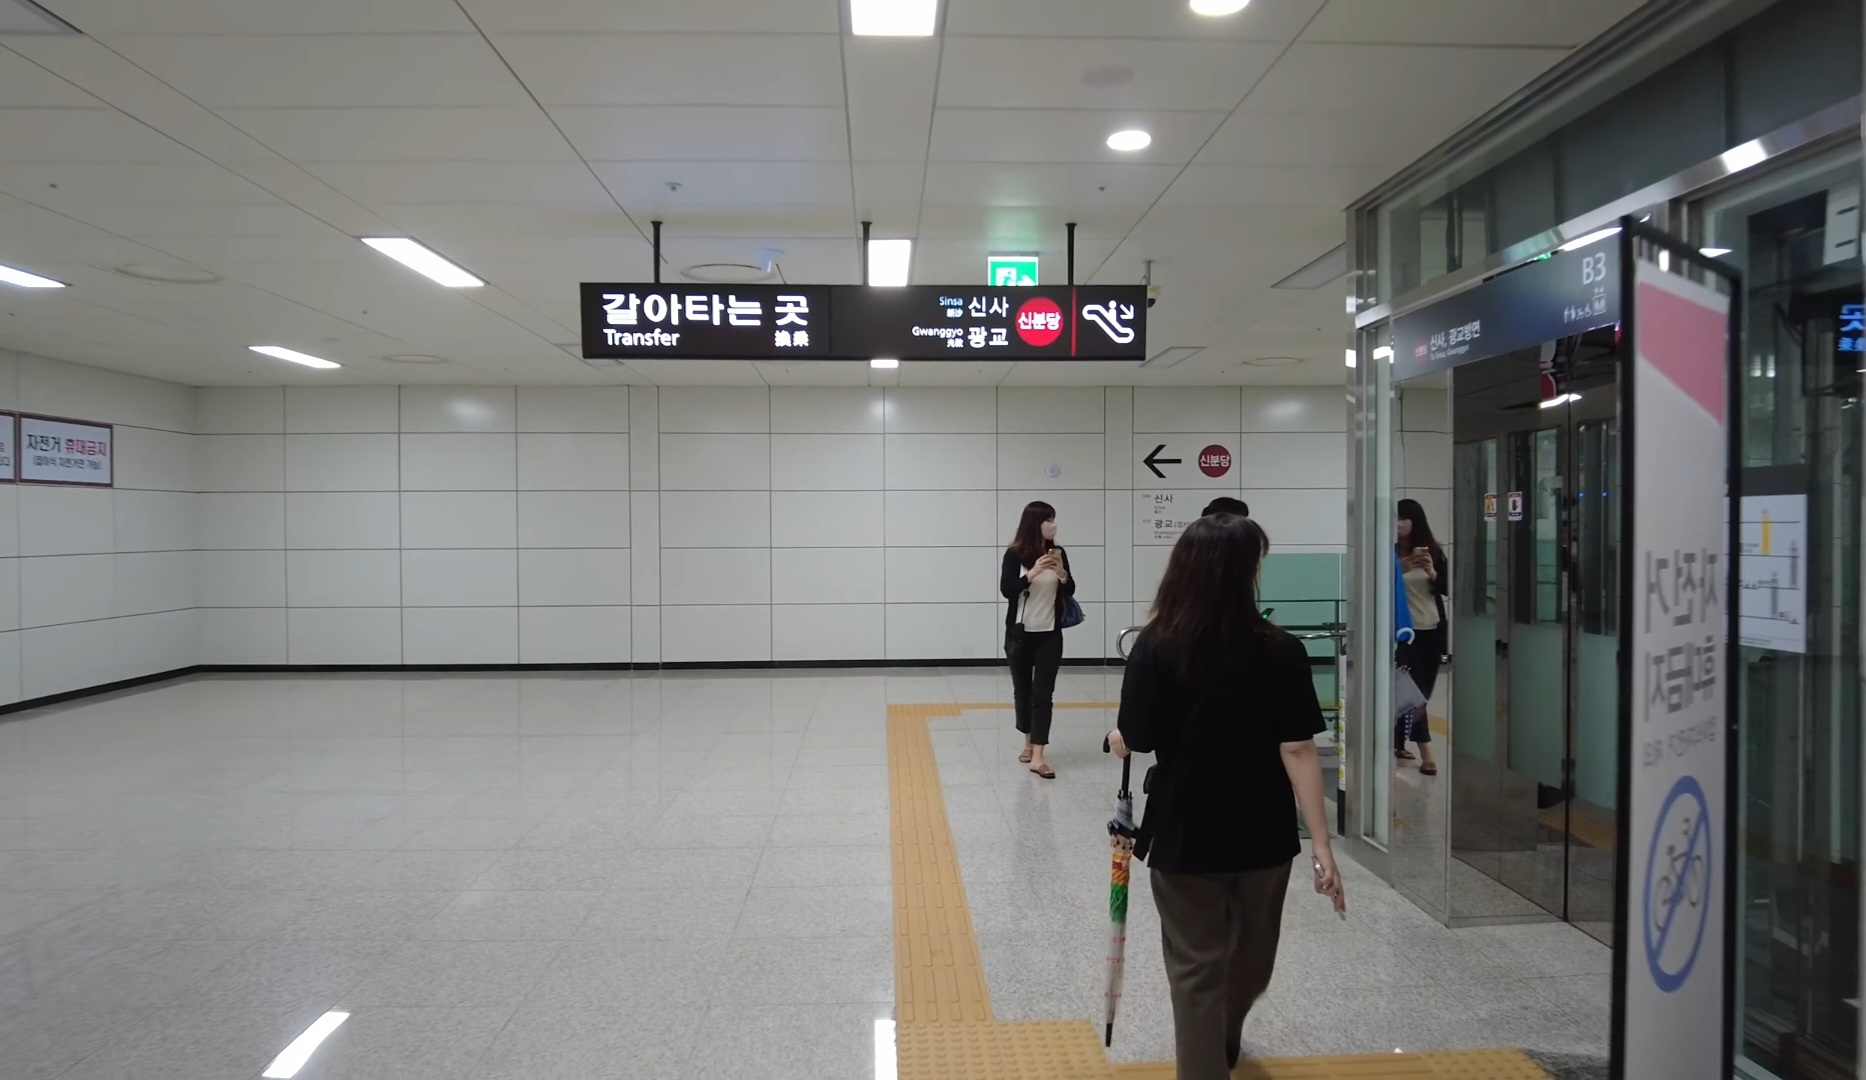signBoard: (556, 264, 1159, 369)
